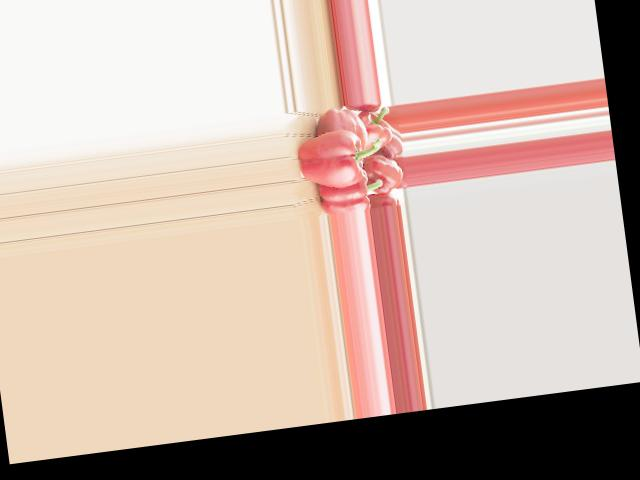bell_pepper: (355, 104, 394, 150)
